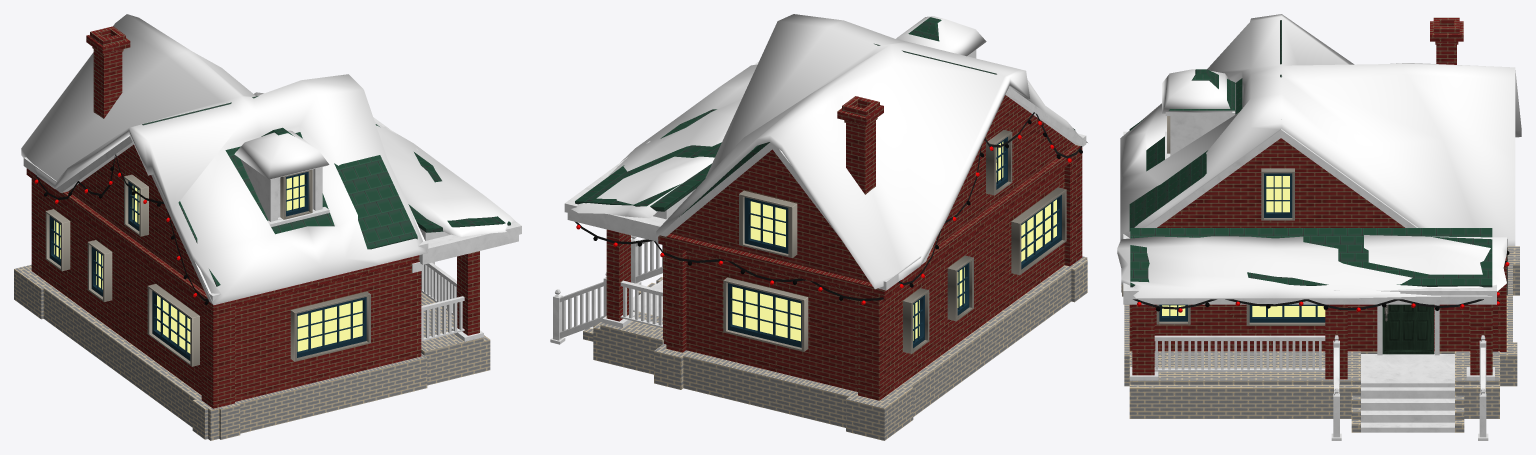
The model's file is House_4.fbx.
The picture shows the model from 3 angles, left to right: view 1: azimuth 30°, elevation 25°; view 2: azimuth 150°, elevation 25°; view 3: azimuth 270°, elevation 25°; orthographic projection. The views are drawn at different scales.
Visible parts, largest first — view 1: U_Snow, U_Brick, U_Brick_Bottom, U_Basic, U_Roof, U_Window_Big_Blue__1_, U_Window_Big_Blue__3_, U_Window_Blue__2_, U_Window_Blue__5_, U_Window_Blue__4_, U_Window_Blue__6_, U_Wire__2_; view 2: U_Brick, U_Snow, U_Brick_Bottom, U_Basic, U_Window_Big_Blue__2_, U_Roof, U_Window_Big_Blue__3_, U_Window_Blue__3_, U_Window_Blue__5_, U_Window_Blue__4_, U_Wire__2_, U_Window_Blue__6_ (+1 smaller); view 3: U_Snow, U_Brick, U_Basic, U_Brick_Bottom, U_Roof, U_Door_B, U_Window_Blue__1_, U_Window_Big_Blue, U_Wire__2_, U_Window_Blue, U_Door_Border_In_B_Green.
Boxes of the visible parts, left/top/right/bottom form: U_Snow: left=21, top=14, right=514, bottom=305; U_Brick: left=26, top=26, right=479, bottom=408; U_Brick_Bottom: left=14, top=264, right=490, bottom=440; U_Basic: left=23, top=117, right=521, bottom=341; U_Roof: left=142, top=96, right=510, bottom=286; U_Window_Big_Blue__1_: left=290, top=291, right=370, bottom=361; U_Window_Big_Blue__3_: left=147, top=284, right=199, bottom=366; U_Window_Blue__2_: left=280, top=169, right=312, bottom=219; U_Window_Blue__5_: left=45, top=209, right=70, bottom=271; U_Window_Blue__4_: left=87, top=240, right=112, bottom=301; U_Window_Blue__6_: left=124, top=174, right=148, bottom=236; U_Wire__2_: left=36, top=154, right=208, bottom=301; U_Brick: left=606, top=95, right=1082, bottom=400; U_Snow: left=571, top=14, right=1087, bottom=289; U_Brick_Bottom: left=583, top=256, right=1087, bottom=440; U_Basic: left=550, top=49, right=1086, bottom=344; U_Window_Big_Blue__2_: left=723, top=277, right=808, bottom=351; U_Roof: left=575, top=17, right=1075, bottom=216; U_Window_Big_Blue__3_: left=1011, top=187, right=1066, bottom=275; U_Window_Blue__3_: left=739, top=190, right=797, bottom=258; U_Window_Blue__5_: left=903, top=288, right=929, bottom=353; U_Window_Blue__4_: left=947, top=255, right=973, bottom=321; U_Wire__2_: left=575, top=112, right=1082, bottom=301; U_Window_Blue__6_: left=986, top=130, right=1012, bottom=195; U_Snow: left=1117, top=14, right=1521, bottom=298; U_Brick: left=1129, top=17, right=1506, bottom=379; U_Basic: left=1123, top=84, right=1507, bottom=440; U_Brick_Bottom: left=1121, top=246, right=1519, bottom=432; U_Roof: left=1129, top=20, right=1492, bottom=287; U_Door_B: left=1384, top=304, right=1432, bottom=349; U_Window_Blue__1_: left=1261, top=168, right=1294, bottom=220; U_Window_Big_Blue: left=1246, top=304, right=1325, bottom=325; U_Wire__2_: left=1133, top=253, right=1507, bottom=310; U_Window_Blue: left=1156, top=304, right=1190, bottom=324; U_Door_Border_In_B_Green: left=1382, top=304, right=1433, bottom=354.
Bounding box in the file's own units: 662 × 528 × 684.
Materials: 10 (6 with a texture image).
